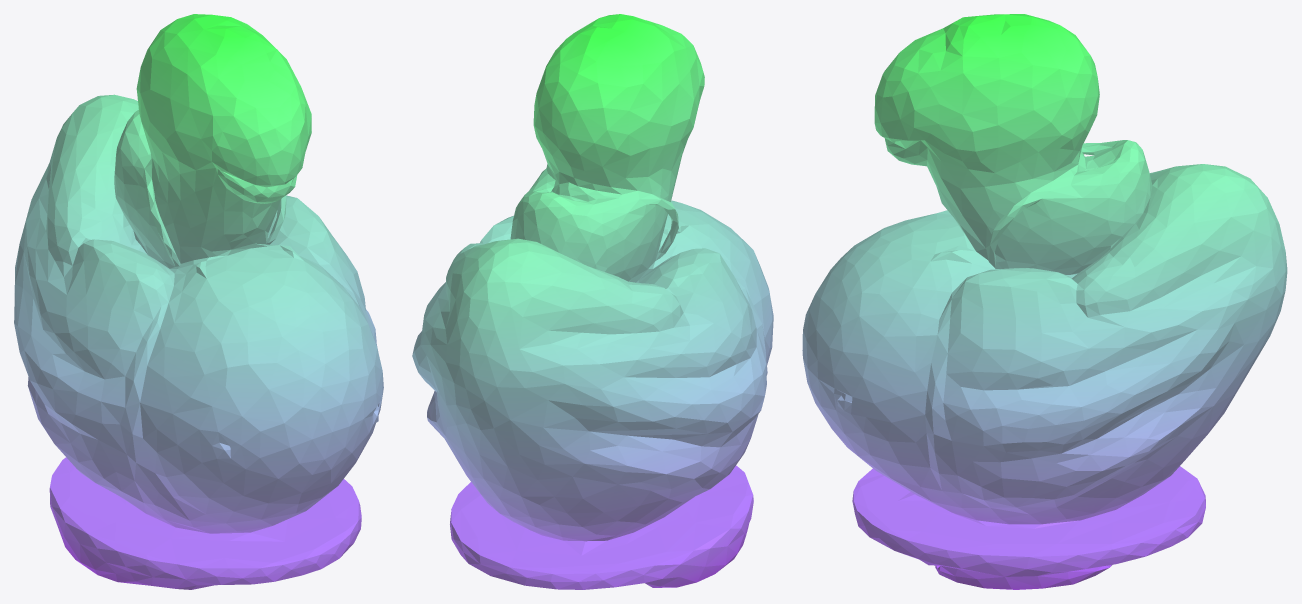
The model's file is 20_cyb_laser_gradient_fish_scales_2937_2026_10_03_00bdb2.glb.
3 views of the same model, side by side, from view 1: azimuth 30°, elevation 25°; view 2: azimuth 150°, elevation 25°; view 3: azimuth 270°, elevation 25° (orthographic). The views are drawn at different scales.
Visible parts, largest first — view 1: geometry_0; view 2: geometry_0; view 3: geometry_0.
Boxes of the visible parts, x1,y1,x2,y2 form: geometry_0: (14, 14, 383, 589); geometry_0: (412, 14, 773, 589); geometry_0: (802, 14, 1287, 589).
Size of the model in its own units: 0.6298 by 1 by 0.8542.
